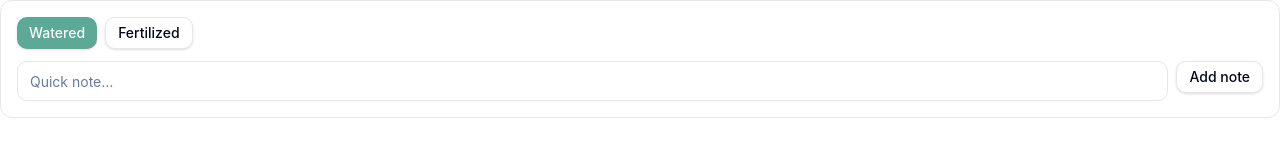
Test: EventQuickAdd › disables buttons during submission to prevent duplicates
Click the button "Watered" at (57, 33), box [17,17,97,49]
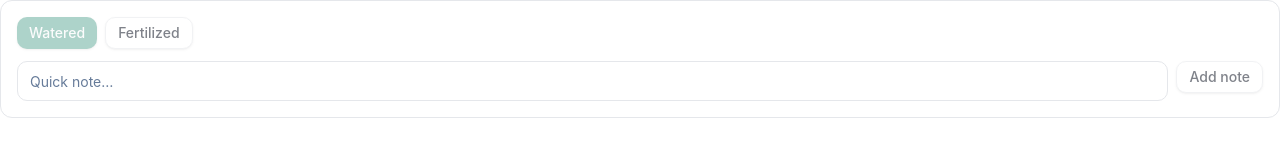
Check: the button "Watered" is disabled
Click the button "Watered" at (57, 33), box [17,17,97,49]
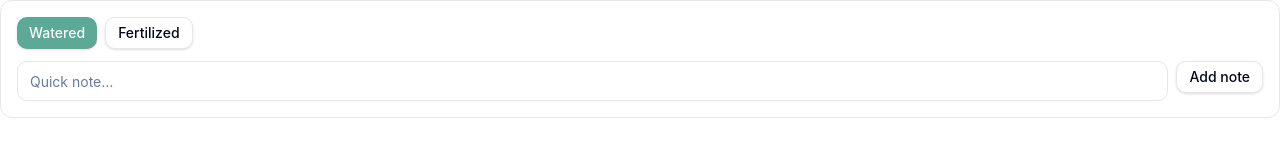
Check: the button "Watered" is enabled, box [17,17,97,49]
